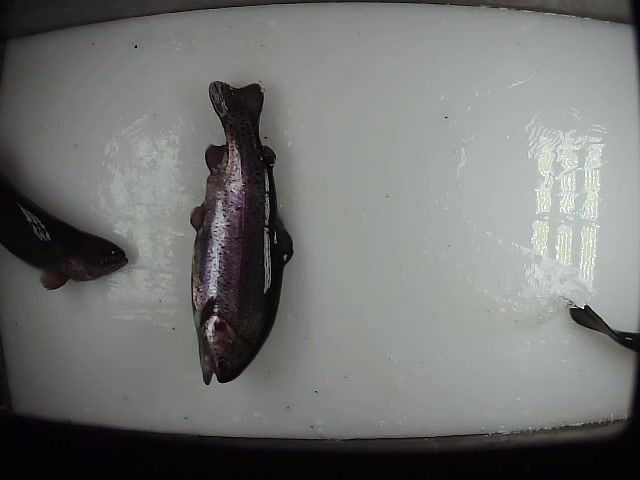Fish: (188, 79, 294, 384)
